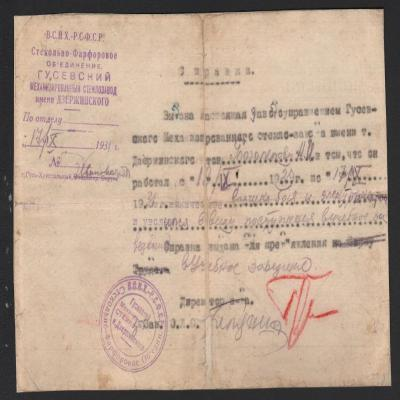document: (15, 12, 388, 390)
